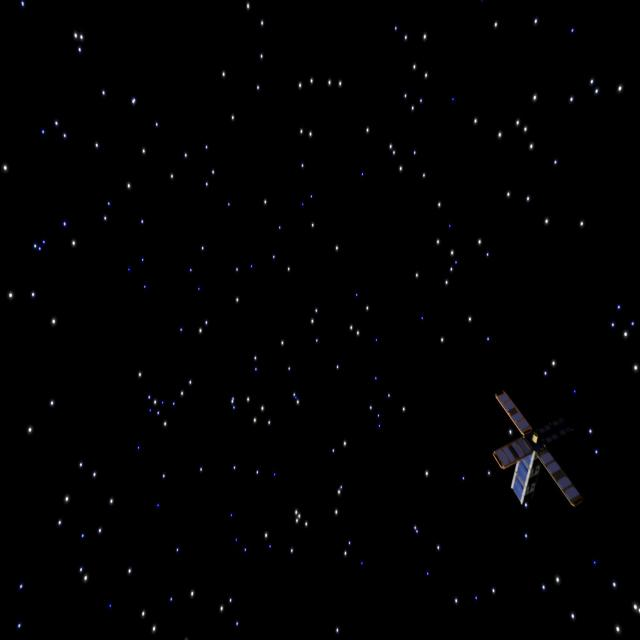medium_debris: (480, 387, 580, 520)
